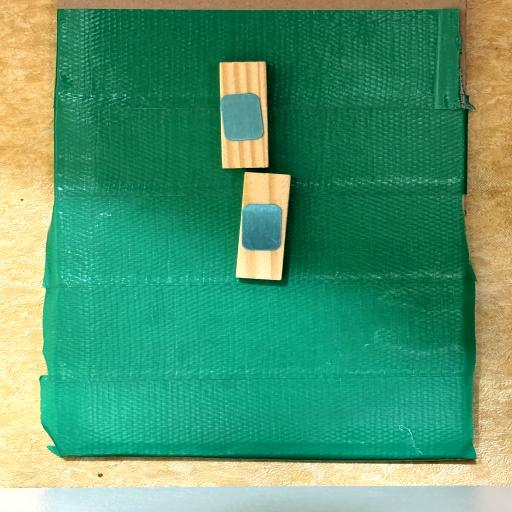objects: (235, 171, 291, 282), (219, 61, 268, 170)
